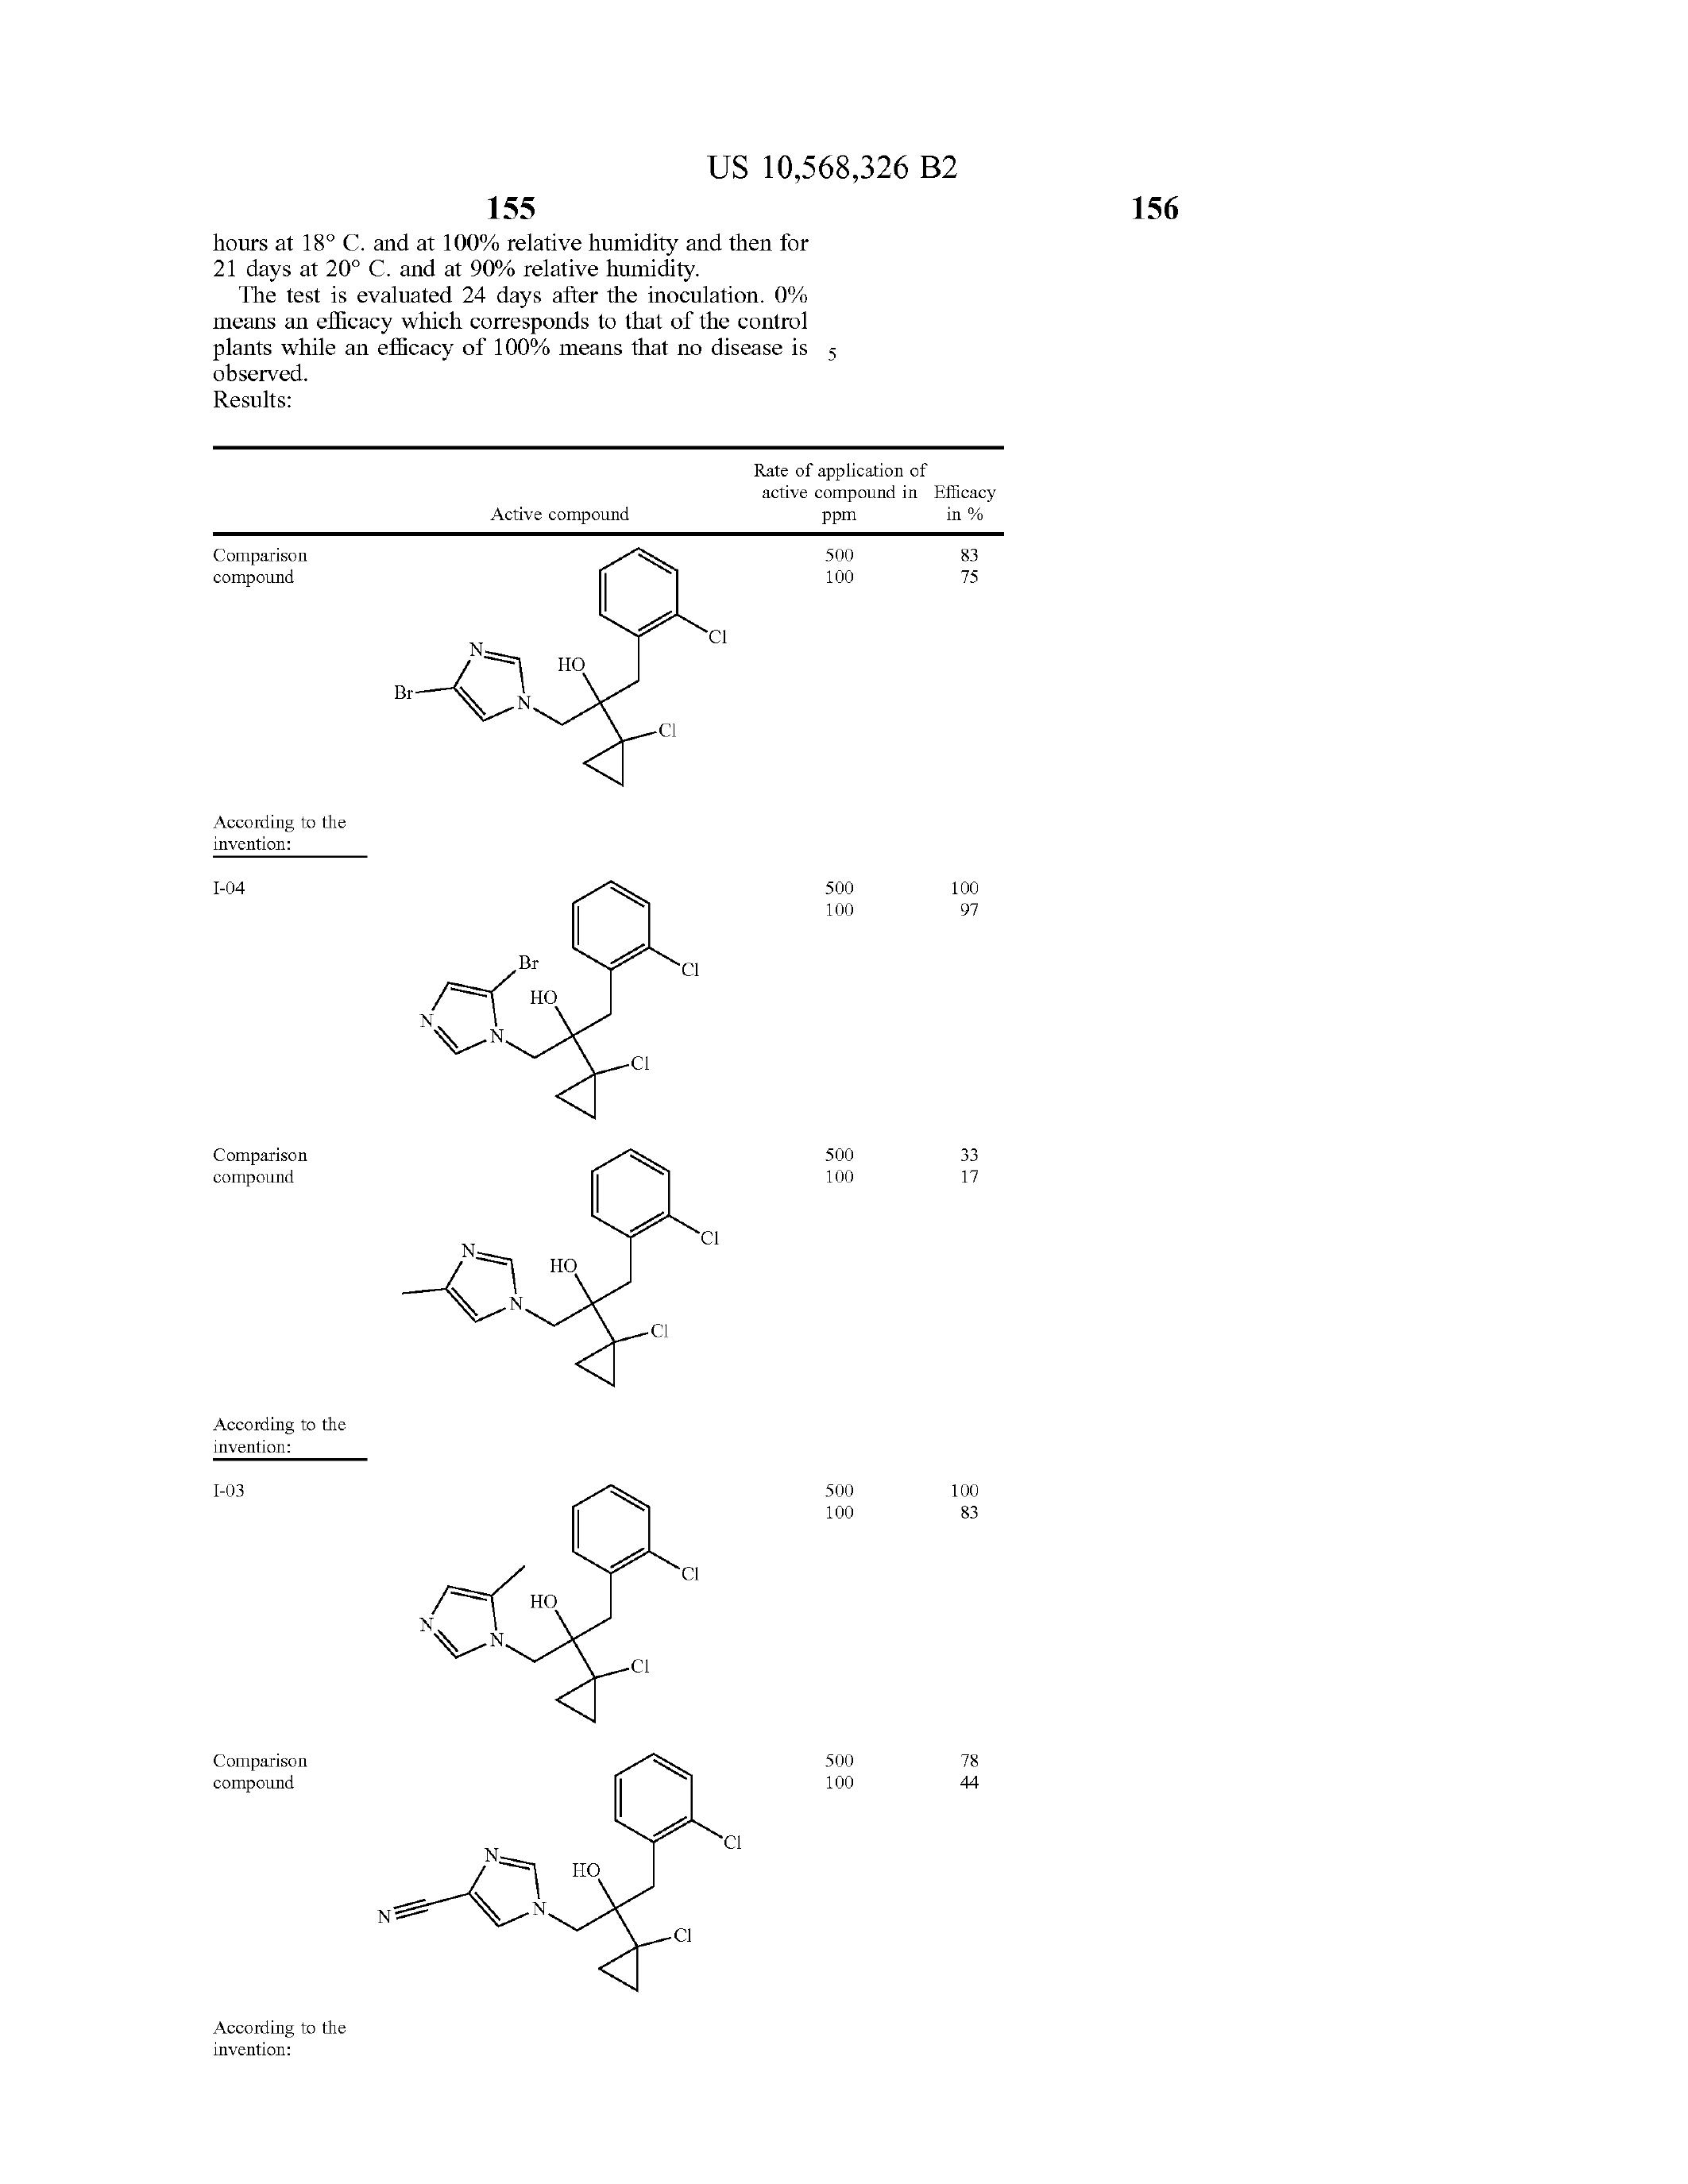relevant-structures: (346, 1755, 801, 2083), (369, 1420, 757, 1736), (383, 815, 725, 1115), (381, 1115, 725, 1402), (387, 555, 739, 787)
